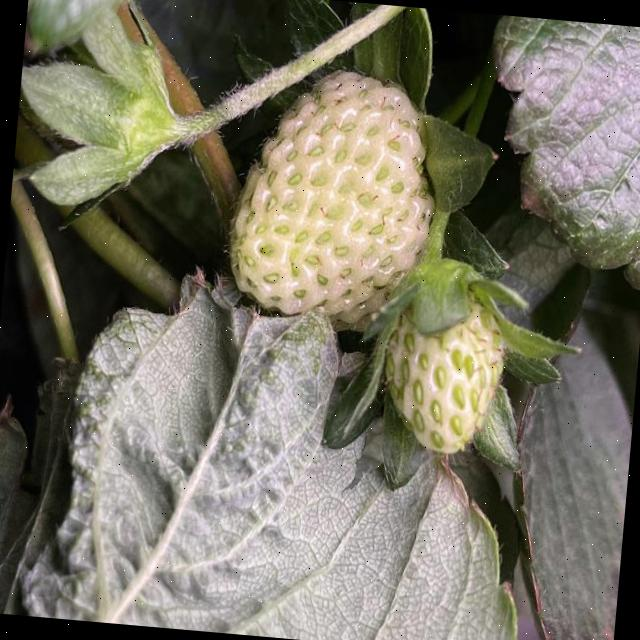strawberry: (220, 63, 442, 334), (377, 268, 511, 460)
